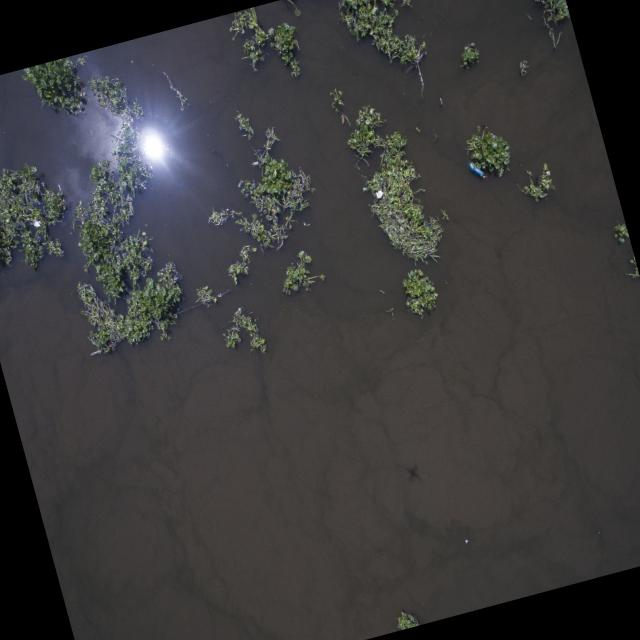Plastic: (466, 157, 484, 180), (374, 188, 384, 199), (32, 218, 41, 228)
